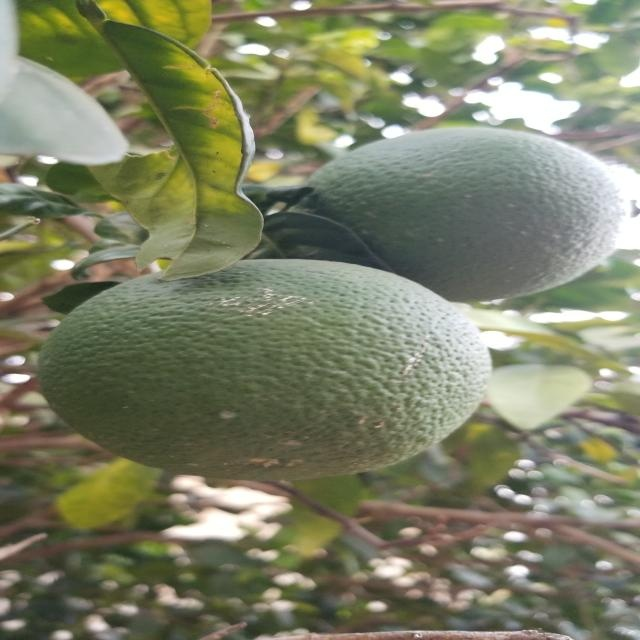agrume: (36, 257, 503, 486), (301, 122, 631, 303)
